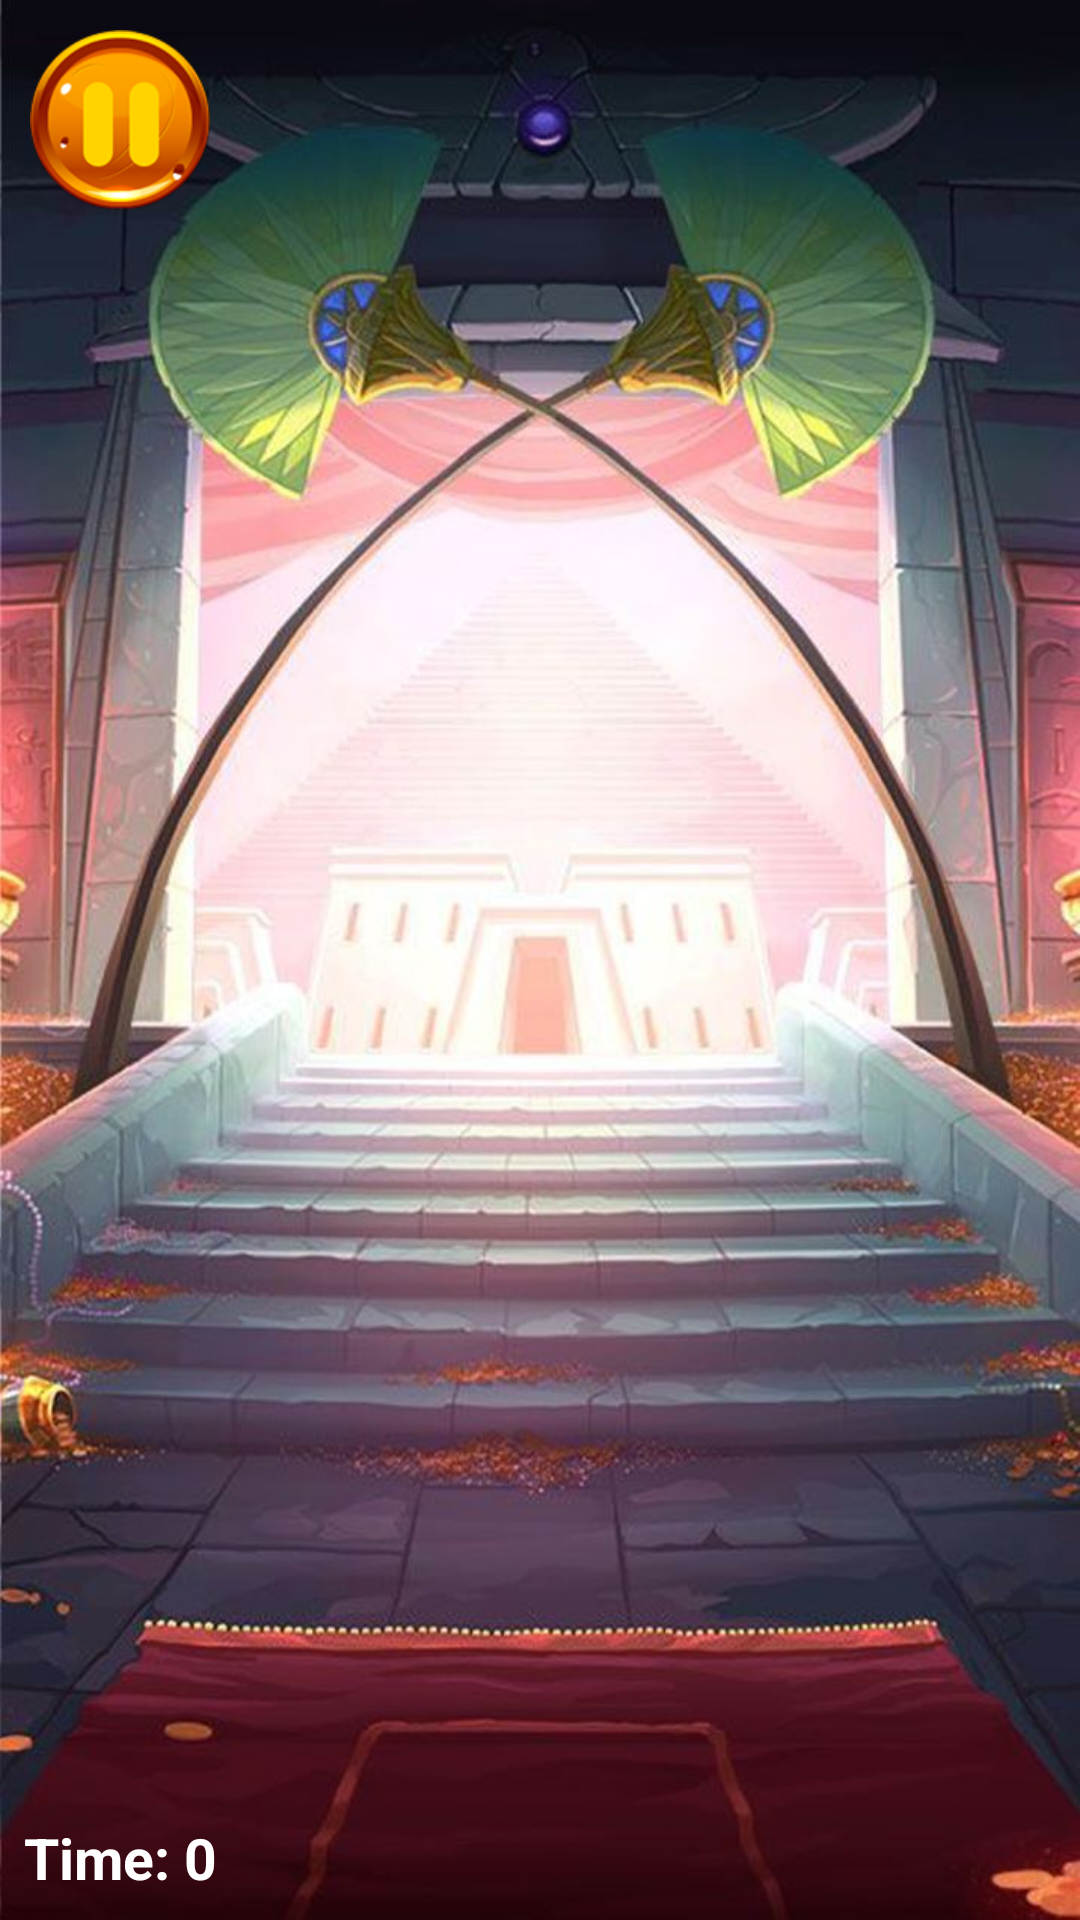

Named icons in this screenshot (1080*1920) and their bounding boxes, rect(x1, y1, x2, y2):
pause: rect(30, 30, 210, 210)
